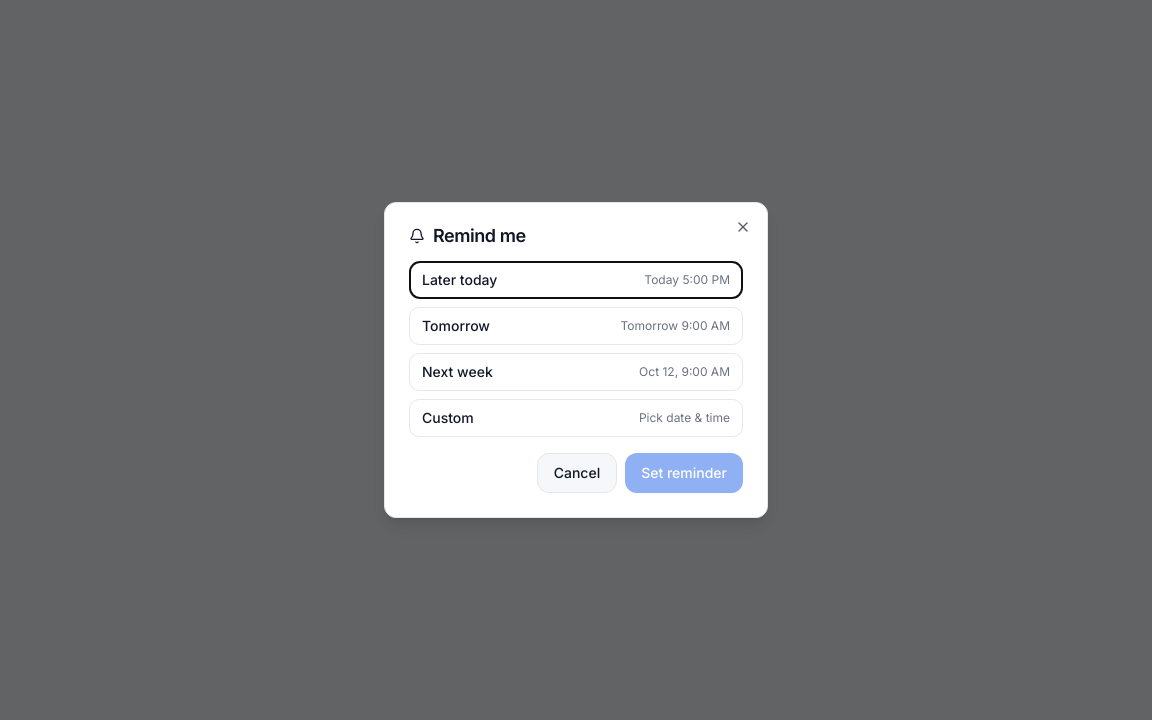
Test: Remind me dialog › shows the API error inline, stays open, and keeps the selection (R-044)
The image size is (1152, 720).
What coordinates should you click on to do the following:
click the button with test id "remind-preset-tomorrow"
I would click on:
 (456, 326)
Its box is x1=409 y1=307 x2=743 y2=345.
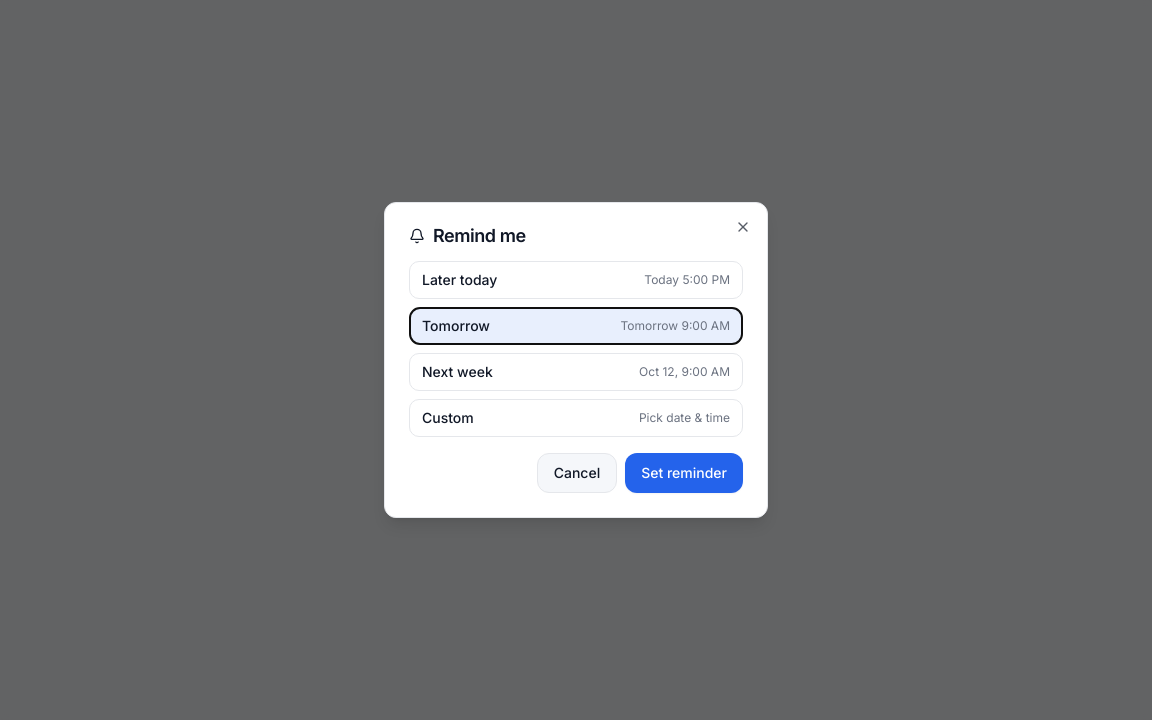
What coordinates should you click on to do the following:
click the button "Set reminder"
I would click on:
 (684, 473)
Its box is x1=625 y1=453 x2=743 y2=493.
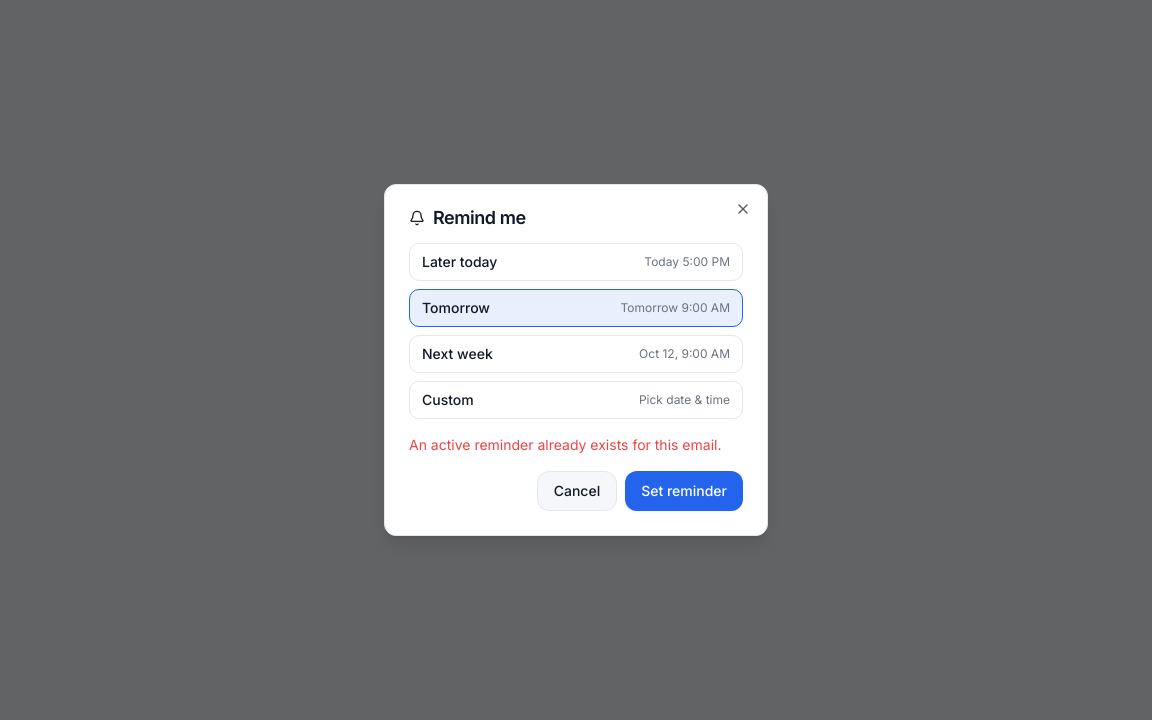
Now the button "Set reminder" is enabled, box x1=625 y1=471 x2=743 y2=511
Now the message shows "active reminder already exists", box x1=409 y1=436 x2=722 y2=453
